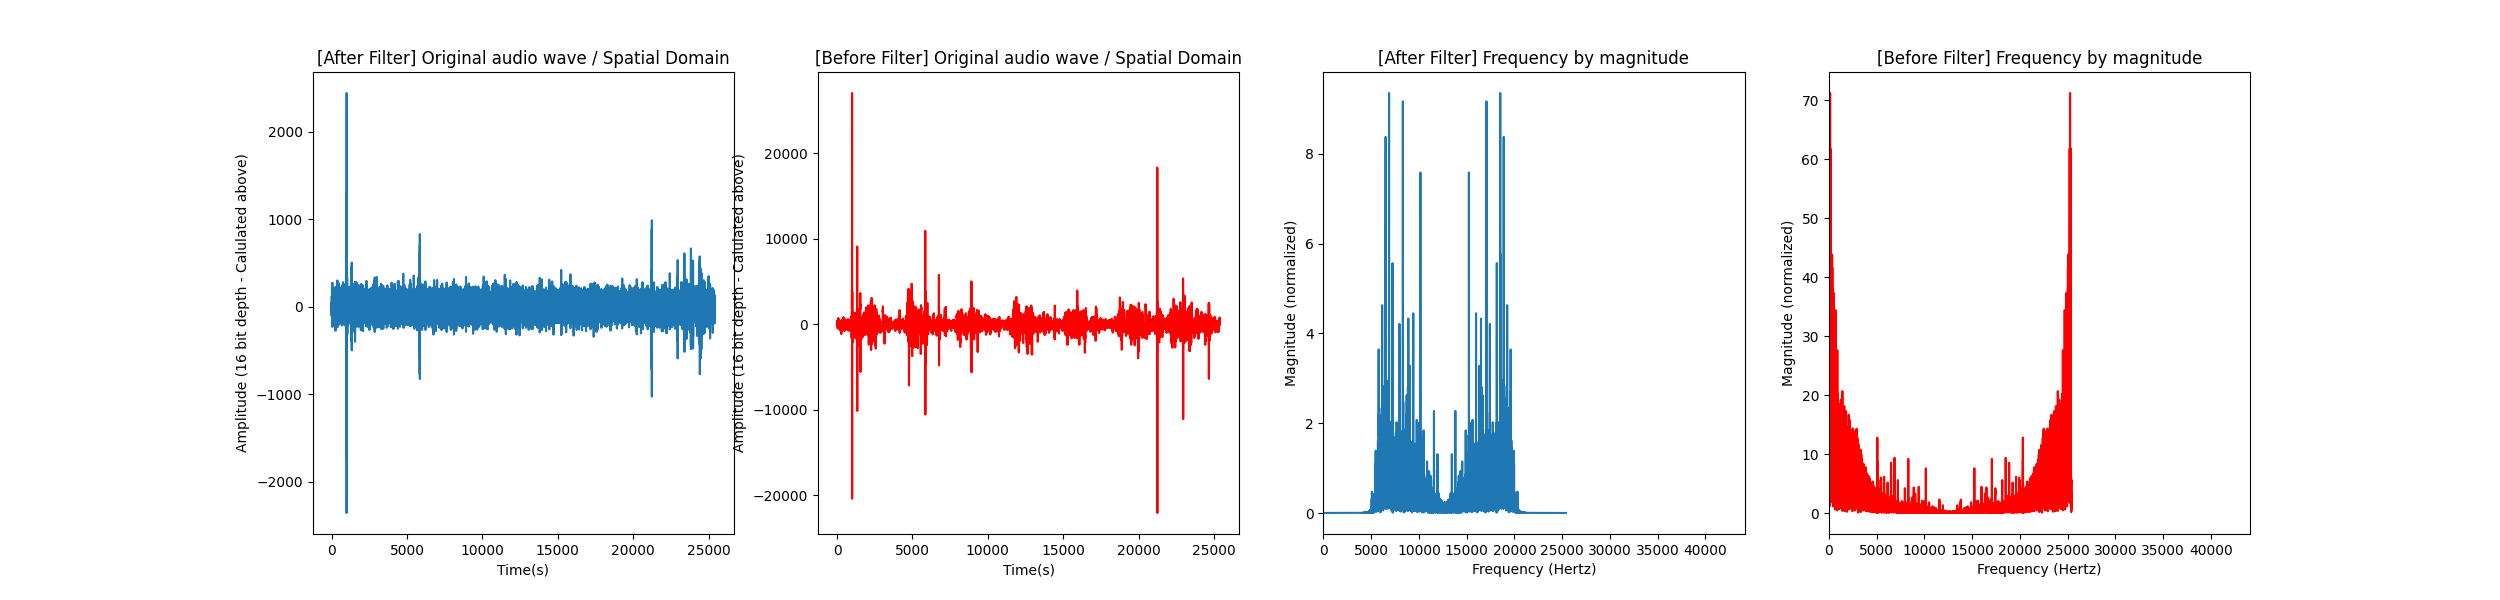

This screenshot's page, from the dashboard's own definition file:
{"tool":"powerbi","page":{"name":"Page 1","canvas":[1280,720],"ordinal":0},"visuals":[{"type":"pythonVisual","fields":{"Values":["datanormal (4).Column1"]},"box":[305.5,0,973,506.8],"z":0},{"type":"actionButton","box":[0,0,100,40],"z":1000}]}

Visuals, with their boxes on the page's 1280x720 design canvas (x1, y1, x2, y2). These are canvas units, not pixel positions in the 2500x600 screenshot, which may show the page scaled, cropped or inside an application window:
pythonVisual - datanormal (4).Column1: rect(306, 0, 1278, 507)
actionButton: rect(0, 0, 100, 40)
